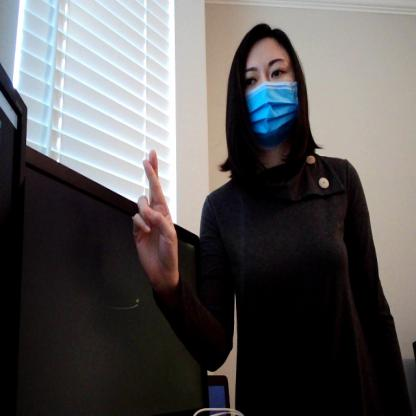right: (129, 146, 183, 284)
